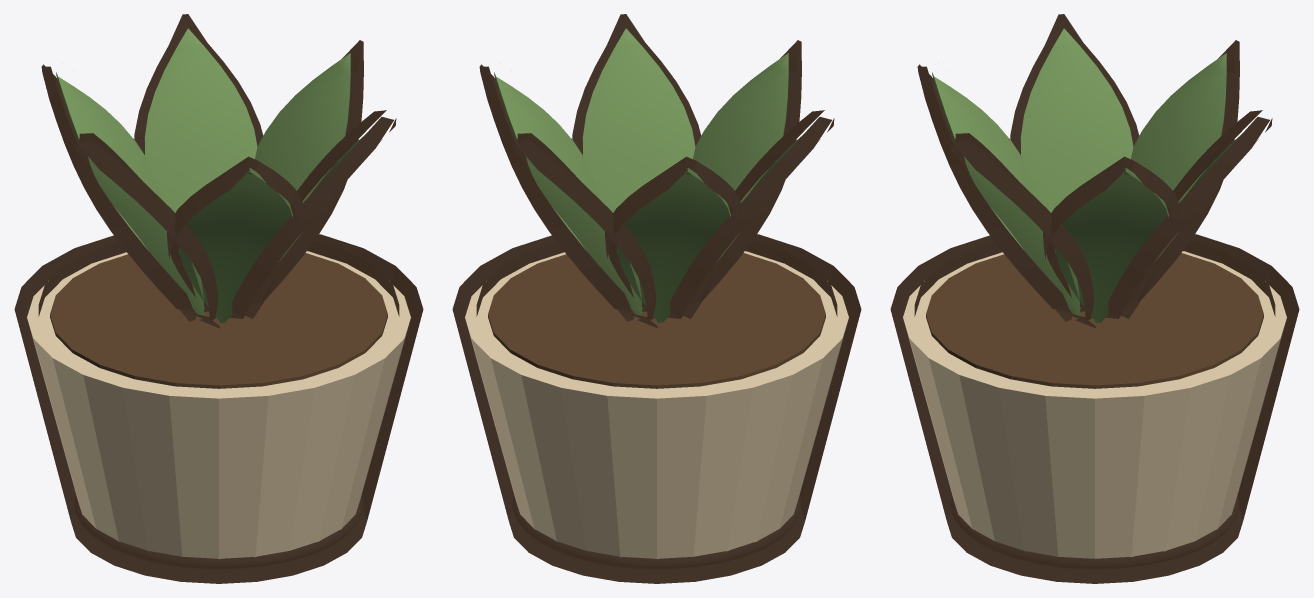
File: planta.glb
3 views of the same model, side by side, from view 1: azimuth 30°, elevation 25°; view 2: azimuth 150°, elevation 25°; view 3: azimuth 270°, elevation 25° (orthographic).
Parts seen in each view (by area): view 1: planta, planta_outline; view 2: planta, planta_outline; view 3: planta, planta_outline.
Part boxes in pixels (x1,y1,x2,y2): planta: [27, 28, 410, 558]; planta_outline: [14, 14, 423, 583]; planta: [465, 28, 848, 558]; planta_outline: [452, 14, 861, 583]; planta: [903, 28, 1286, 558]; planta_outline: [890, 14, 1299, 583].
Bounding box in the file's own units: 0.5325 × 0.6224 × 0.5325.
